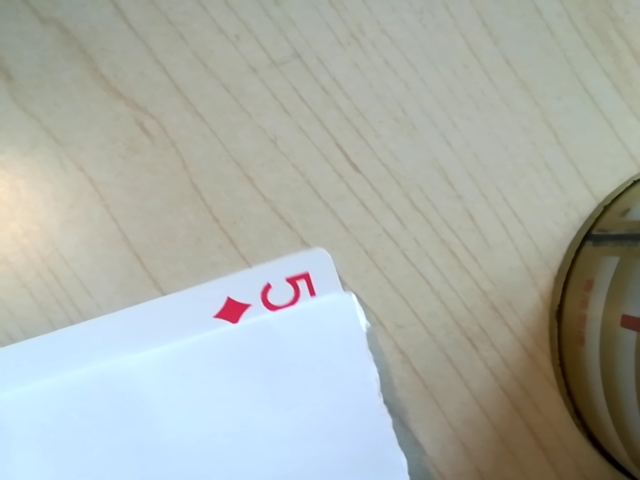fk 5: (203, 269, 329, 326)
